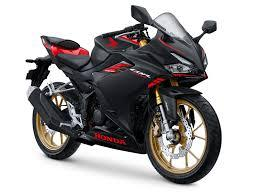motorcycle: (22, 4, 225, 190)
